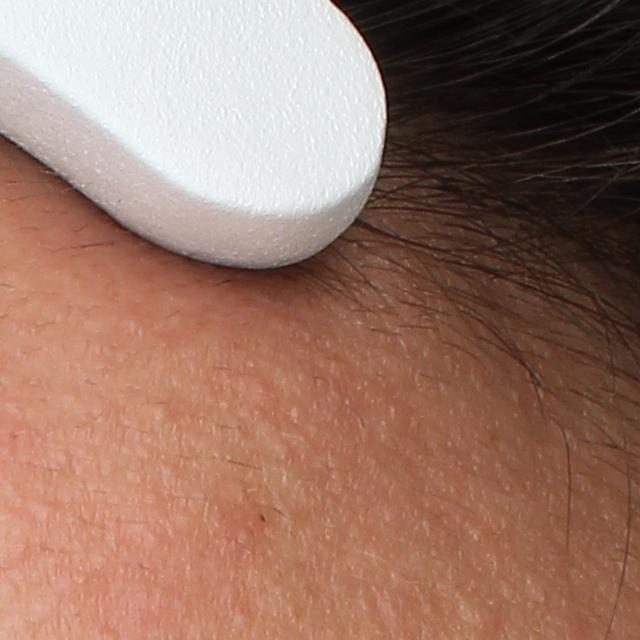comedo: (458, 592, 500, 636), (149, 401, 175, 429), (35, 499, 56, 521)
